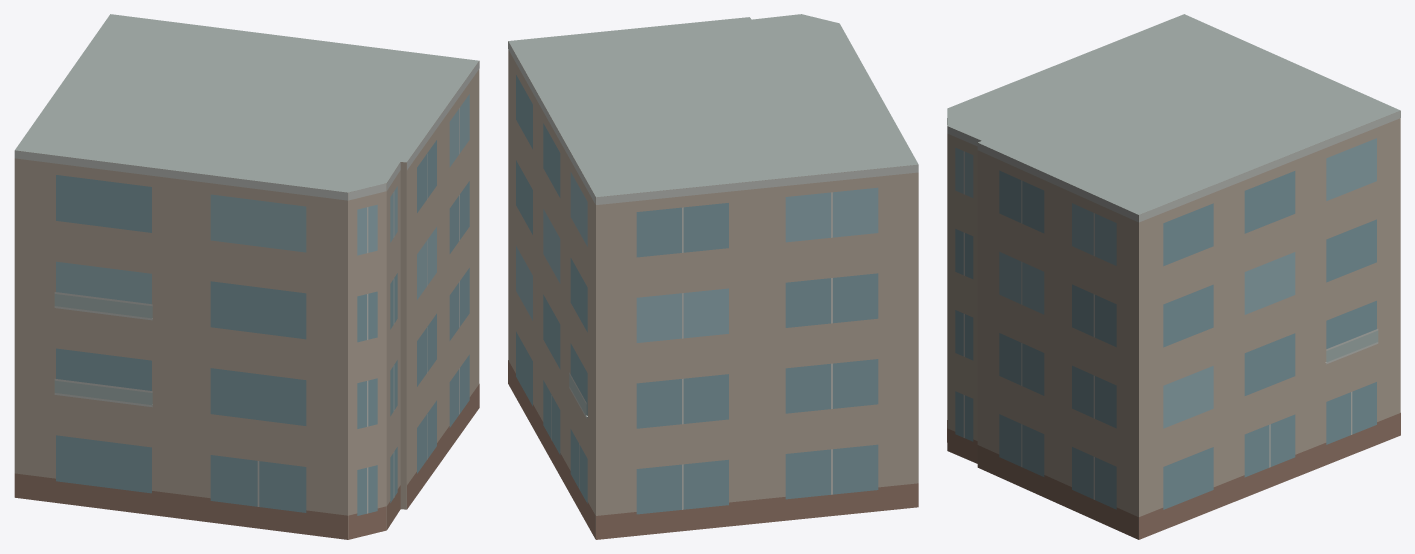
File: survey-upis-32718909.glb
3 renders of one model, left to right at view 1: azimuth 30°, elevation 25°; view 2: azimuth 150°, elevation 25°; view 3: azimuth 270°, elevation 25°, orthographic. The views are drawn at different scales.
Visible parts, largest first — view 1: survey-upis-32718909.tmp; view 2: survey-upis-32718909.tmp; view 3: survey-upis-32718909.tmp.
Boxes of the visible parts, box(x1,y1,x2,y2) form: survey-upis-32718909.tmp: box(14, 14, 479, 539); survey-upis-32718909.tmp: box(508, 14, 918, 539); survey-upis-32718909.tmp: box(947, 14, 1400, 539).
Size of the model in its own units: 14.01 by 10.55 by 13.36.
